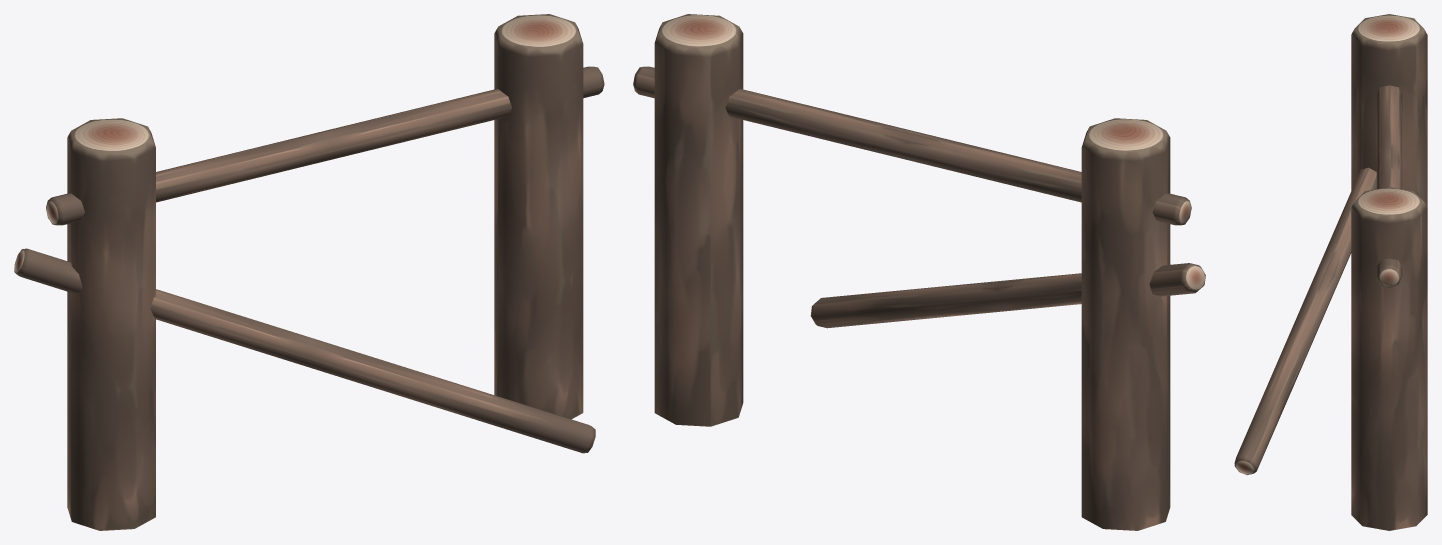
The model's file is fence02.fbx.
3 renders of one model, left to right at view 1: azimuth 30°, elevation 25°; view 2: azimuth 150°, elevation 25°; view 3: azimuth 270°, elevation 25°, orthographic. The views are drawn at different scales.
Visible parts, largest first — view 1: fence; view 2: fence; view 3: fence.
Boxes of the visible parts, <box> form: fence: <box>14,14,604,530</box>; fence: <box>633,14,1205,530</box>; fence: <box>1234,14,1427,530</box>.
Size of the model in its own units: 14.39 by 9.12 by 5.06.
